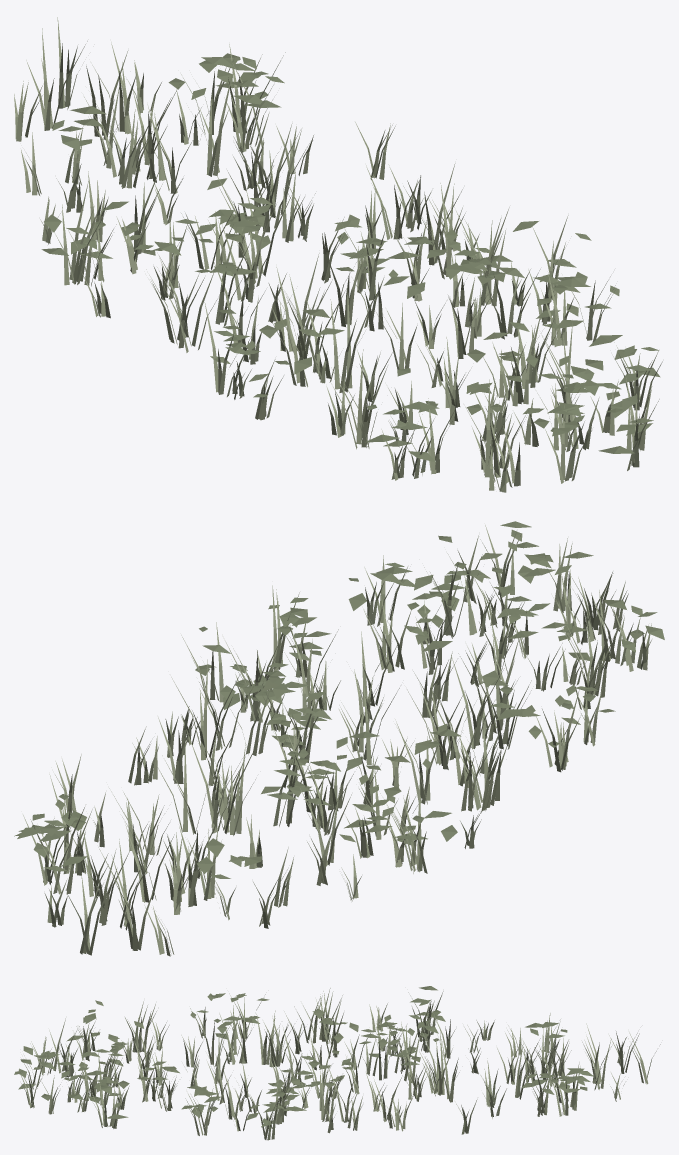
Rendered from AE_Encroachment_19.fbx.
3 views of the same model, one above another, from view 1: azimuth 30°, elevation 25°; view 2: azimuth 150°, elevation 25°; view 3: azimuth 270°, elevation 25° (orthographic). The views are drawn at different scales.
Visible parts, largest first — view 1: AE_Encroachment_19_LOD0; view 2: AE_Encroachment_19_LOD0; view 3: AE_Encroachment_19_LOD0.
Boxes of the visible parts, x1,y1,x2,y2 form: AE_Encroachment_19_LOD0: [14, 17, 662, 492]; AE_Encroachment_19_LOD0: [14, 521, 664, 956]; AE_Encroachment_19_LOD0: [14, 986, 660, 1140].
Size of what is drawn, in the model's own units: 437 by 106 by 997.
